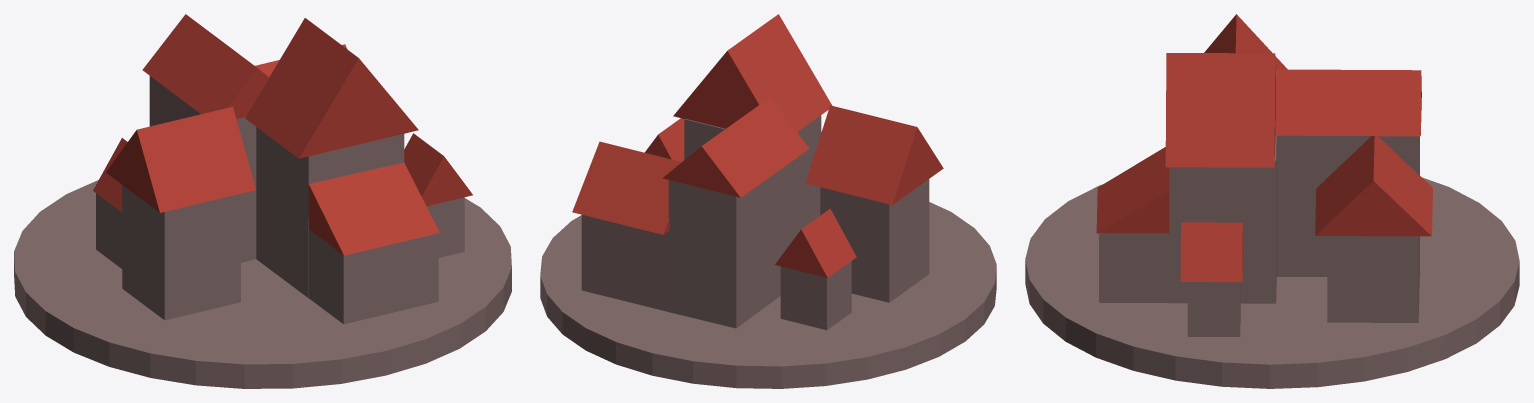
Rendered from redVillage.fbx.
3 renders of one model, left to right at view 1: azimuth 30°, elevation 25°; view 2: azimuth 150°, elevation 25°; view 3: azimuth 270°, elevation 25°, orthographic. The views are drawn at different scales.
Parts seen in each view (by area): view 1: Cylinder.391; view 2: Cylinder.391; view 3: Cylinder.391.
Part boxes in pixels (bbox=[...]): Cylinder.391: bbox=[14, 14, 511, 388]; Cylinder.391: bbox=[540, 14, 996, 388]; Cylinder.391: bbox=[1025, 14, 1519, 388].
Size of the model in its own units: 0.4534 by 0.4534 by 0.255.
